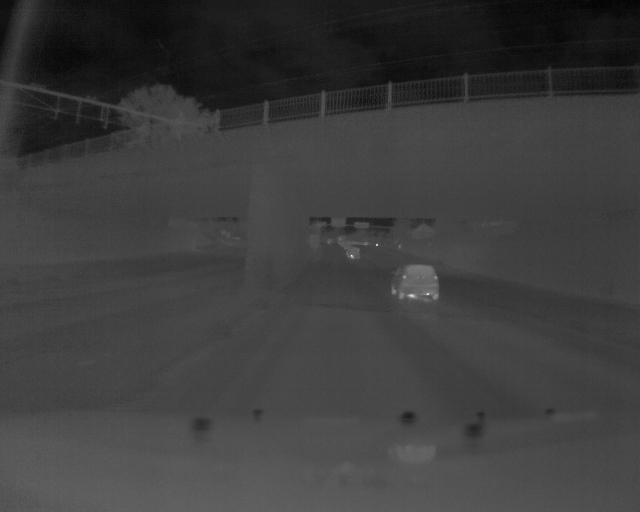car: (388, 259, 443, 302)
